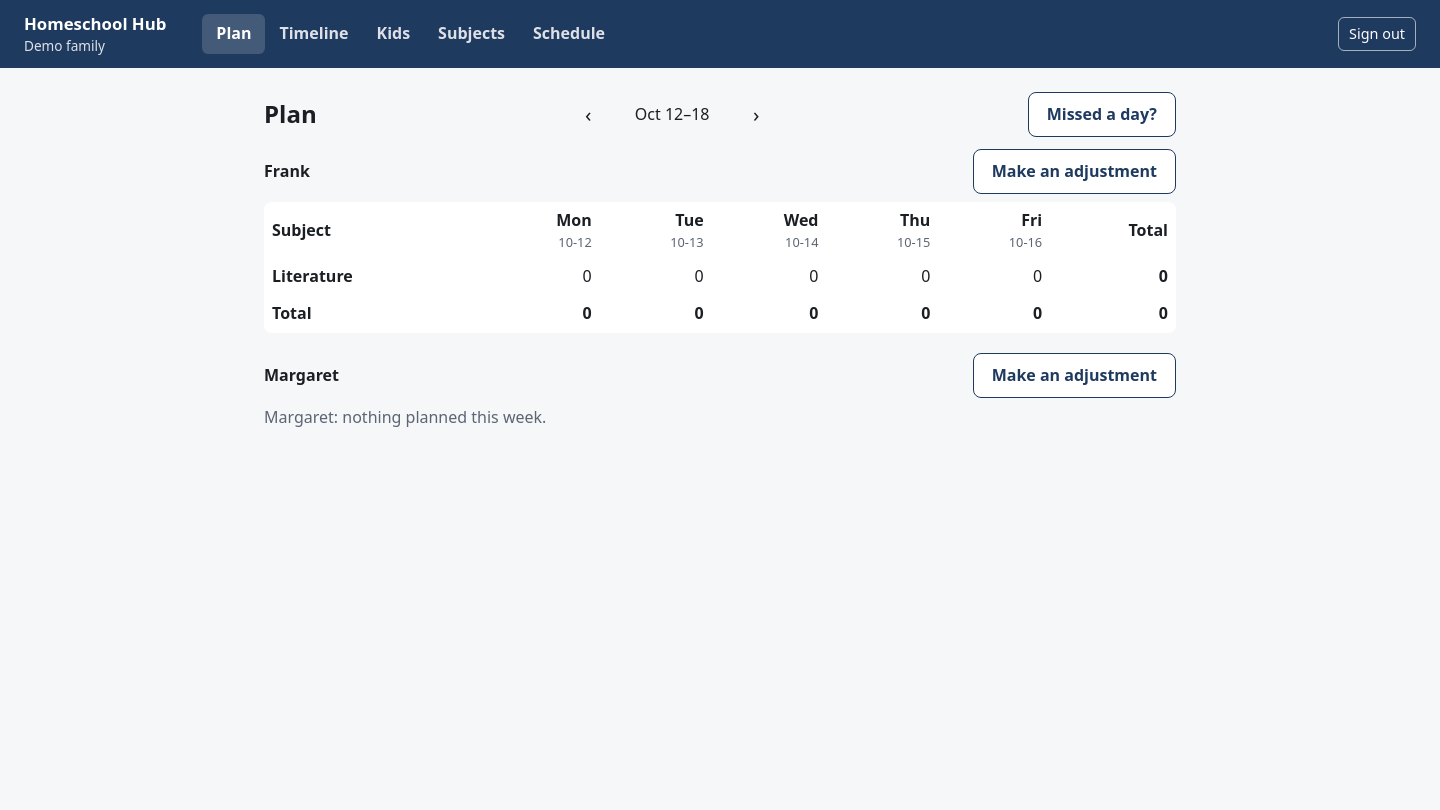
Test case: Make an adjustment › the later-check-ins note shows only when a later week has check-ins
Click the button with aria-label "Make an adjustment for Frank" at (1074, 172), box [973,149,1176,194]
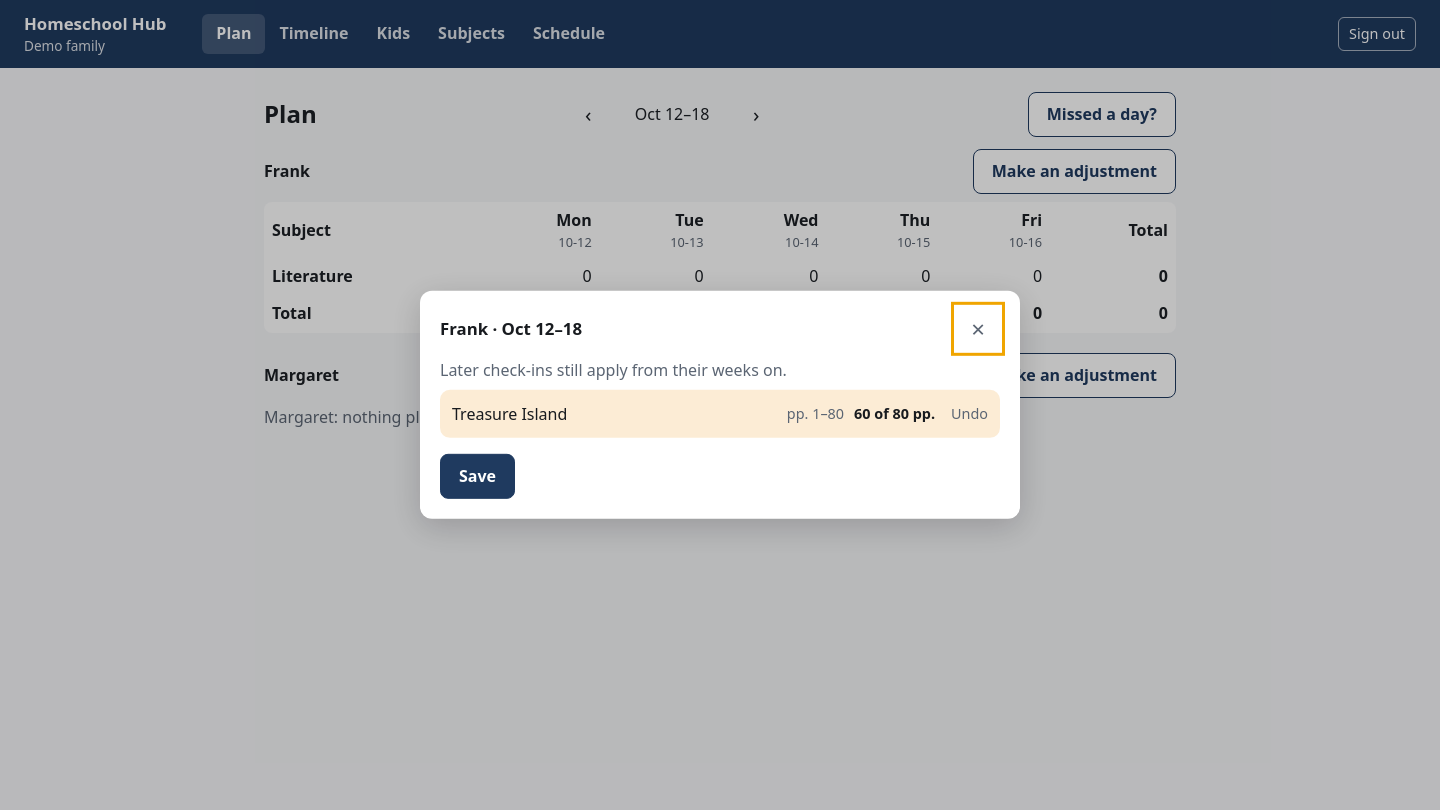
expect the text "Later check-ins still apply from their weeks on." is shown: met, box [440,359,787,381]
